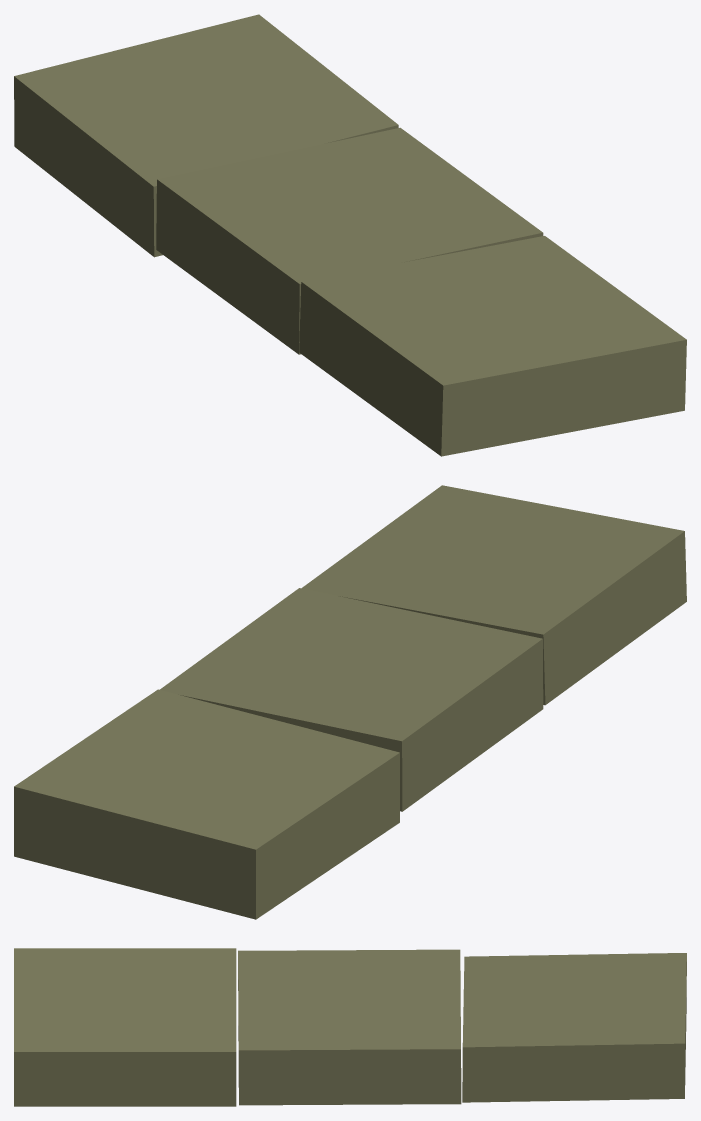
Rendered from ground_tiles1x3.fbx.
3 renders of one model, top to bottom at view 1: azimuth 30°, elevation 25°; view 2: azimuth 150°, elevation 25°; view 3: azimuth 270°, elevation 25°, orthographic. The views are drawn at different scales.
Visible parts, largest first — view 1: quad03, quad01, quad02; view 2: quad01, quad02, quad03; view 3: quad03, quad02, quad01.
Boxes of the visible parts, x1,y1,x2,y2 form: quad03: (299,236,686,456); quad01: (14,14,398,257); quad02: (156,127,543,354); quad01: (14,689,399,919); quad02: (160,588,543,811); quad03: (302,485,686,705); quad03: (14,948,236,1106); quad02: (238,949,461,1105); quad01: (462,953,686,1102).
Size of the model in its own units: 1.67 by 0.5446 by 5.05.
